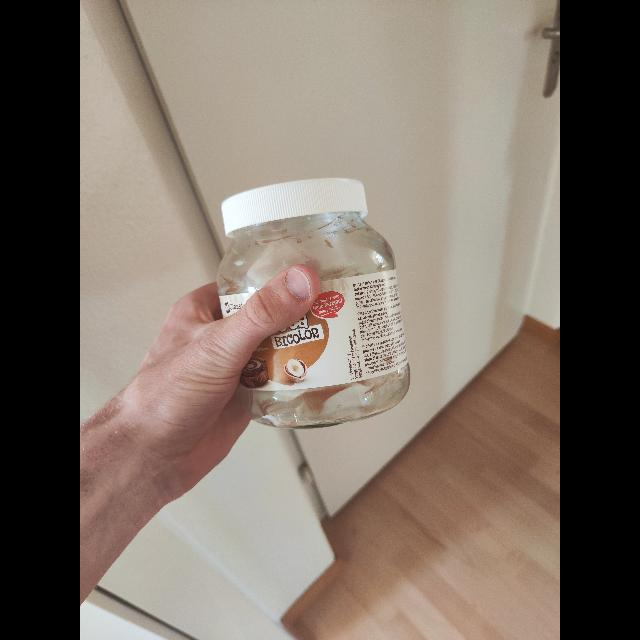Glass: (212, 216, 412, 424)
Plastic: (210, 174, 372, 218)
